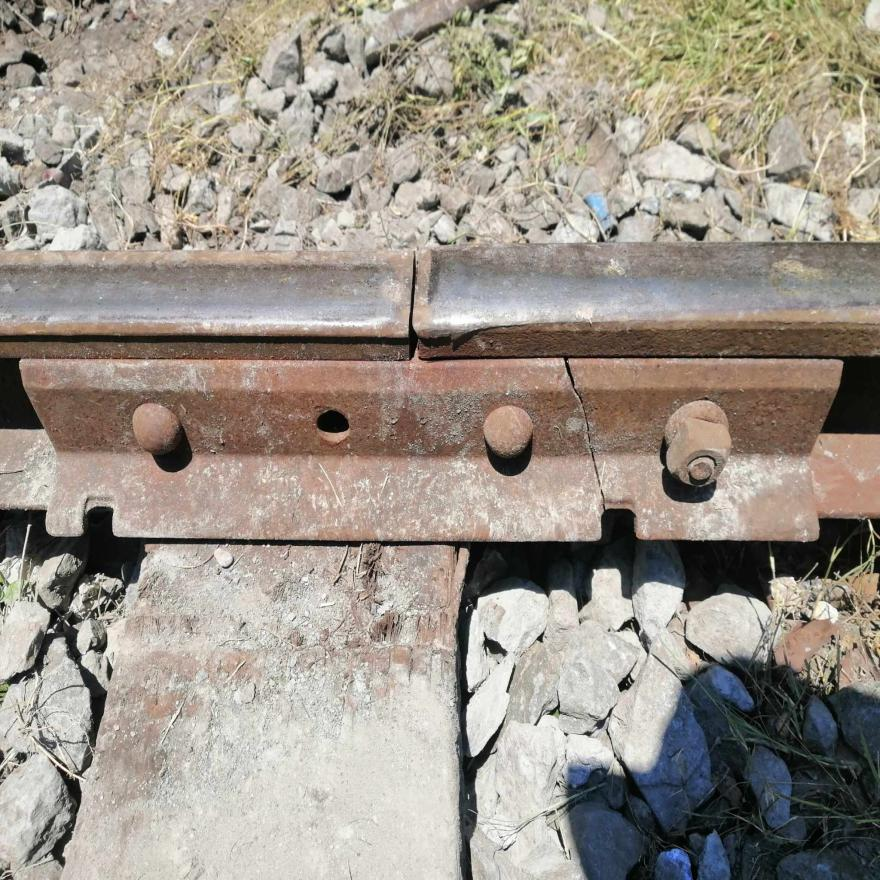railway-gap: (535, 348, 659, 555), (347, 232, 480, 383)
